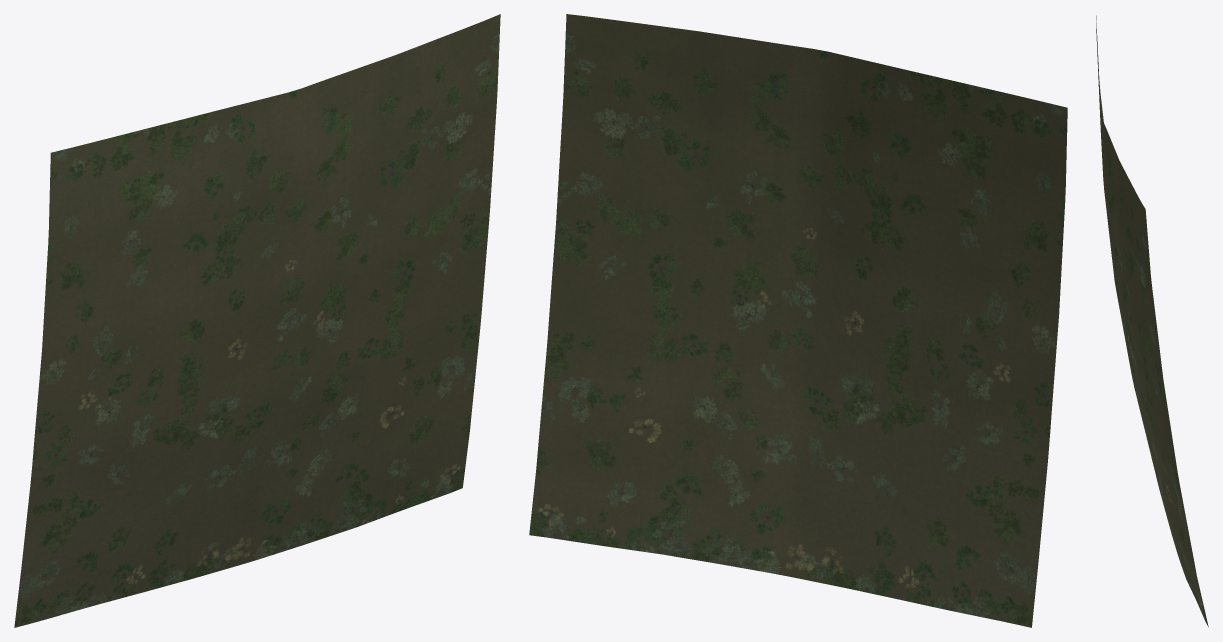
The model's file is terrain_near_08_08.obj.
3 views of the same model, side by side, from view 1: azimuth 30°, elevation 25°; view 2: azimuth 150°, elevation 25°; view 3: azimuth 270°, elevation 25° (orthographic). The views are drawn at different scales.
Visible parts, largest first — view 1: terrain_near_08_08; view 2: terrain_near_08_08; view 3: terrain_near_08_08.
Boxes of the visible parts, <box> form: terrain_near_08_08: <box>14,14,500,627</box>; terrain_near_08_08: <box>529,14,1067,627</box>; terrain_near_08_08: <box>1096,15,1208,627</box>.
Size of the model in its own units: 64 by 64 by 15.62.
1 material, 1 textured.
